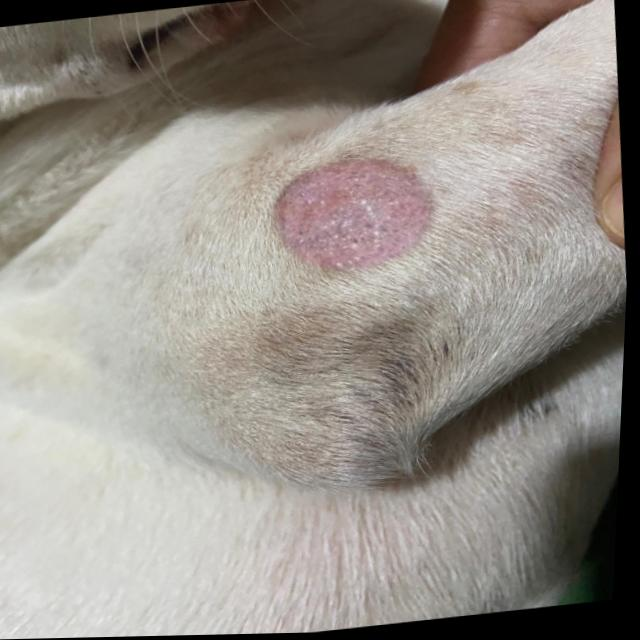ringworm: (238, 127, 451, 310)
